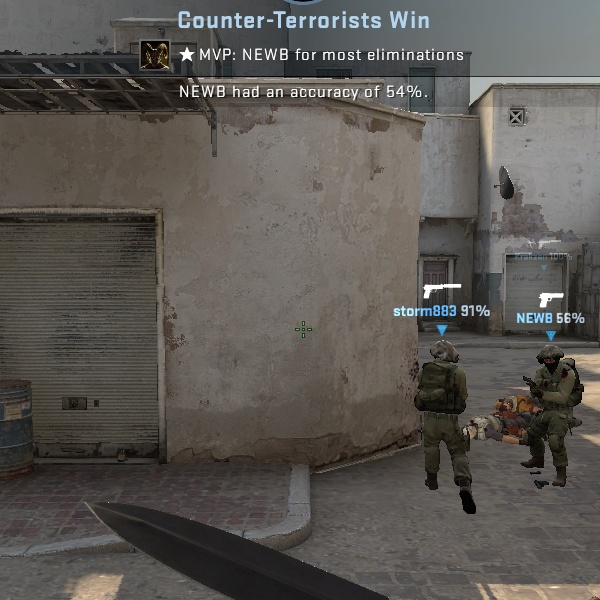ct_body: (405, 335, 484, 498), (515, 342, 593, 495)
ct_head: (424, 335, 464, 376), (533, 342, 568, 377)
